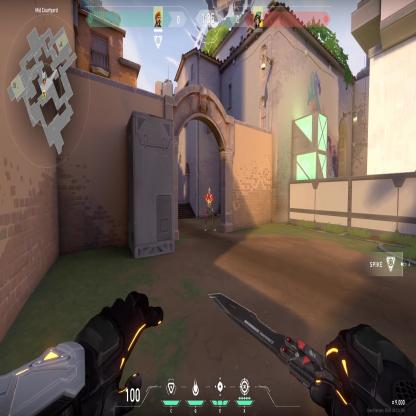enemy: (204, 187, 216, 232)
